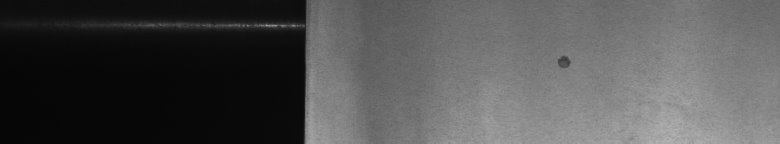fi: (554, 48, 575, 75)
